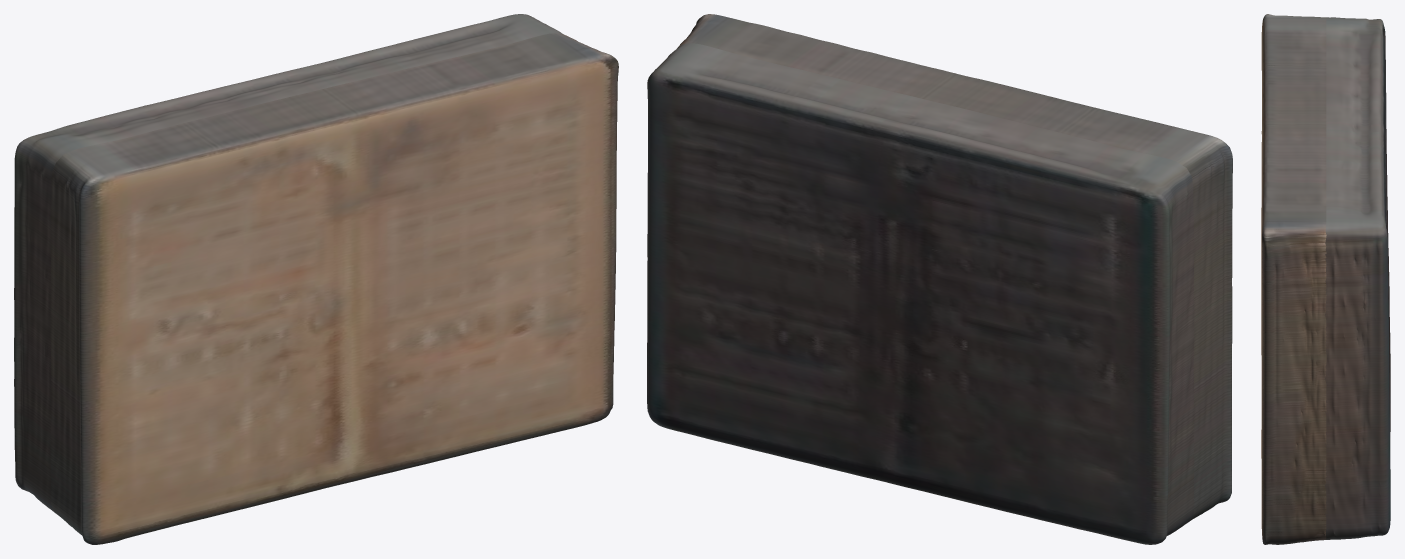
Rendered from kfl-2216.glb.
The picture shows the model from 3 angles, left to right: view 1: azimuth 30°, elevation 25°; view 2: azimuth 150°, elevation 25°; view 3: azimuth 270°, elevation 25°; orthographic projection. The views are drawn at different scales.
Parts seen in each view (by area): view 1: geometry_0; view 2: geometry_0; view 3: geometry_0.
Part boxes in pixels (x1=…): geometry_0: x1=14, y1=14, x2=618, y2=544; geometry_0: x1=647, y1=14, x2=1232, y2=544; geometry_0: x1=1261, y1=14, x2=1390, y2=544.
Bounding box in the file's own units: 0.9964 × 0.6517 × 0.2387.
Materials: 1 (1 with a texture image).
